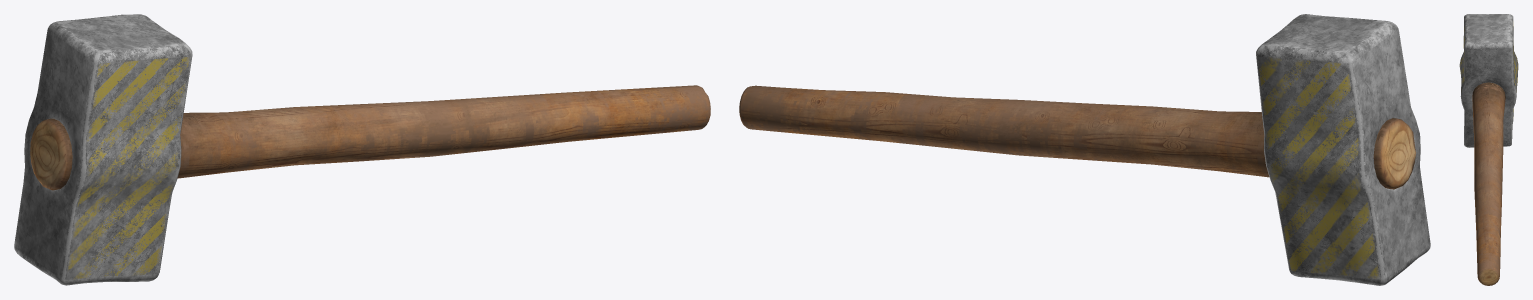
File: sledgehammer.glb
The picture shows the model from 3 angles, left to right: view 1: azimuth 30°, elevation 25°; view 2: azimuth 150°, elevation 25°; view 3: azimuth 270°, elevation 25°; orthographic projection. The views are drawn at different scales.
Parts seen in each view (by area): view 1: hammer_head_low, hammer_hand_low; view 2: hammer_head_low, hammer_hand_low; view 3: hammer_hand_low, hammer_head_low.
Boxes of the visible parts, x1,y1,x2,y2 form: hammer_head_low: [14, 14, 192, 285]; hammer_hand_low: [30, 85, 710, 190]; hammer_head_low: [1256, 14, 1430, 285]; hammer_hand_low: [739, 85, 1416, 189]; hammer_hand_low: [1472, 82, 1505, 285]; hammer_head_low: [1459, 14, 1518, 147].
Size of the model in its own units: 0.76 by 0.264 by 0.1166.
Materials: 1 (1 with a texture image).
